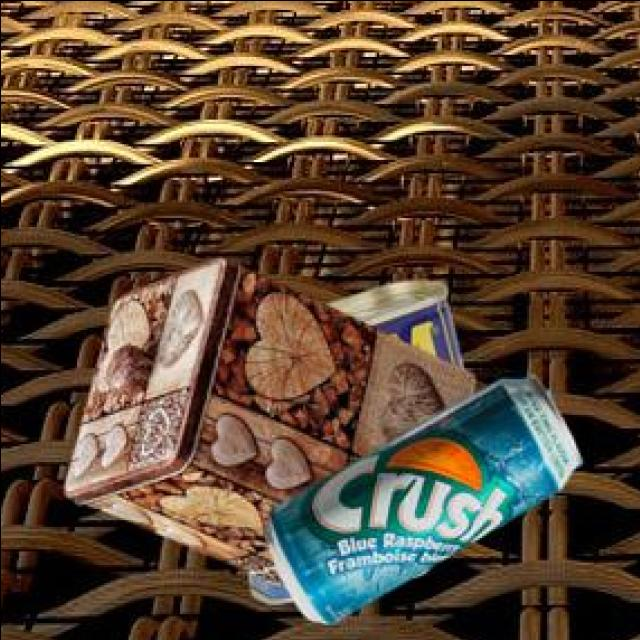logam: (68, 261, 478, 587), (265, 377, 585, 625), (269, 283, 464, 544)
